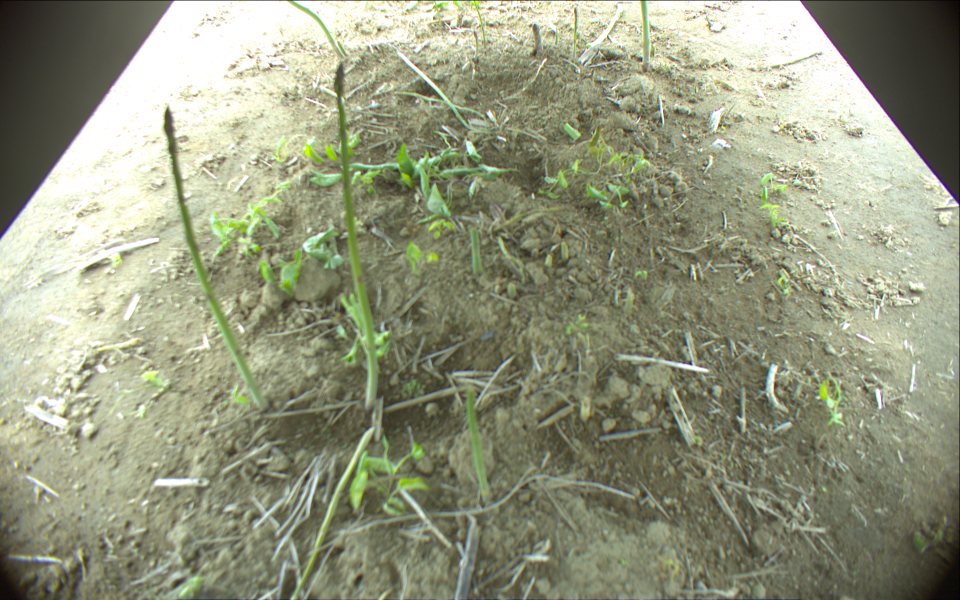aspa: (163, 104, 268, 407), (331, 63, 379, 409), (288, 427, 375, 600), (396, 53, 511, 133), (395, 92, 491, 127), (288, 1, 344, 59), (464, 383, 489, 505), (588, 1, 628, 49), (747, 50, 823, 71), (639, 1, 652, 69), (468, 227, 484, 279), (531, 21, 546, 58), (572, 8, 578, 59), (472, 29, 480, 59)
